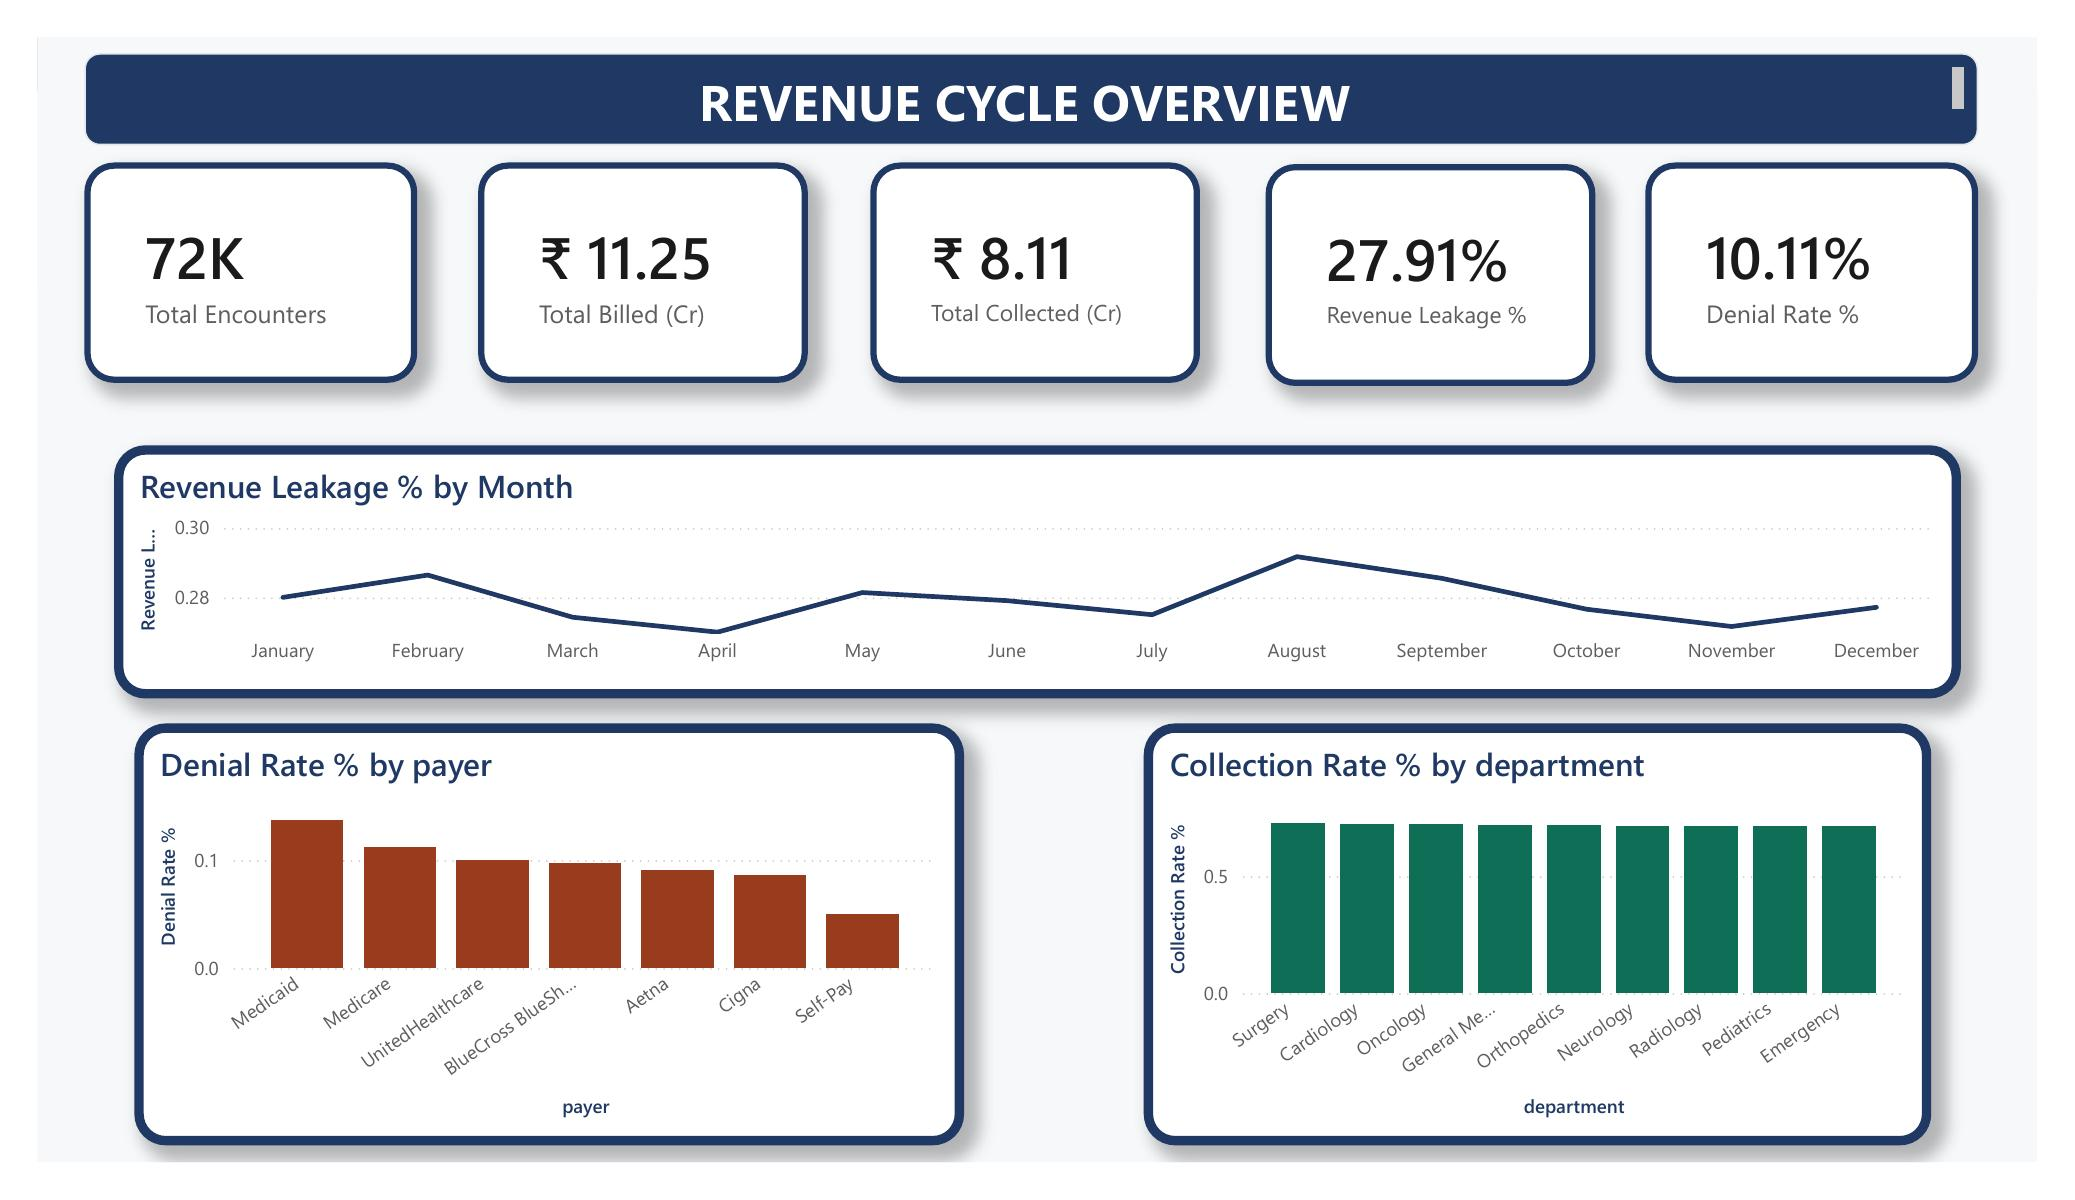

Layout of this report page (visuals, bound fields, positions):
{"tool":"powerbi","page":{"name":"Revenue Cycle Overview","canvas":[1280,720],"ordinal":0},"visuals":[{"type":"cardVisual","fields":{"Data":["healthcare_encounters.Total Encounters"]},"box":[30.2,79.5,213.1,141.6],"z":4000},{"type":"cardVisual","fields":{"Data":["healthcare_encounters.Total Billed (Cr)"]},"box":[281.5,79.5,211.6,141.6],"z":5000},{"type":"cardVisual","fields":{"Data":["healthcare_encounters.Total Collected (Cr)"]},"box":[532.9,79.5,211.6,141.6],"z":6000},{"type":"cardVisual","fields":{"Data":["healthcare_encounters.Revenue Leakage %"]},"box":[785.8,81.1,211.6,141.6],"z":7000},{"type":"cardVisual","fields":{"Data":["healthcare_encounters.Denial Rate %"]},"box":[1029.1,79.5,213.1,141.6],"z":8000},{"type":"clusteredColumnChart","fields":{"Y":["healthcare_encounters.Denial Rate %"],"Category":["healthcare_encounters.payer"]},"box":[62,439,531.3,270.4],"z":9000},{"type":"lineChart","fields":{"Y":["healthcare_encounters.Revenue Leakage %"],"Category":["healthcare_encounters.Start of Month.Variation.Date Hierarchy.Month"]},"box":[49.3,260.9,1181.8,162.2],"z":10000},{"type":"clusteredColumnChart","fields":{"Y":["healthcare_encounters.Collection Rate %"],"Category":["healthcare_encounters.department"]},"box":[707.8,439,504.2,270.4],"z":11000},{"type":"textbox","box":[30.1,10,1211.8,58.7],"z":11001}]}

Visuals, with their boxes in screenshot pixels (x1, y1, x2, y2):
cardVisual - healthcare_encounters.Total Encounters: bbox=(95, 160, 424, 379)
cardVisual - healthcare_encounters.Total Billed (Cr): bbox=(483, 160, 809, 379)
cardVisual - healthcare_encounters.Total Collected (Cr): bbox=(870, 160, 1197, 379)
cardVisual - healthcare_encounters.Revenue Leakage %: bbox=(1260, 163, 1587, 381)
cardVisual - healthcare_encounters.Denial Rate %: bbox=(1636, 160, 1964, 379)
clusteredColumnChart - healthcare_encounters.Denial Rate % x healthcare_encounters.payer: bbox=(144, 715, 964, 1132)
lineChart - healthcare_encounters.Revenue Leakage % x healthcare_encounters.Start of Month.Variation.Date Hierarchy.Month: bbox=(125, 440, 1947, 690)
clusteredColumnChart - healthcare_encounters.Collection Rate % x healthcare_encounters.department: bbox=(1140, 715, 1918, 1132)
textbox: bbox=(95, 53, 1964, 144)
